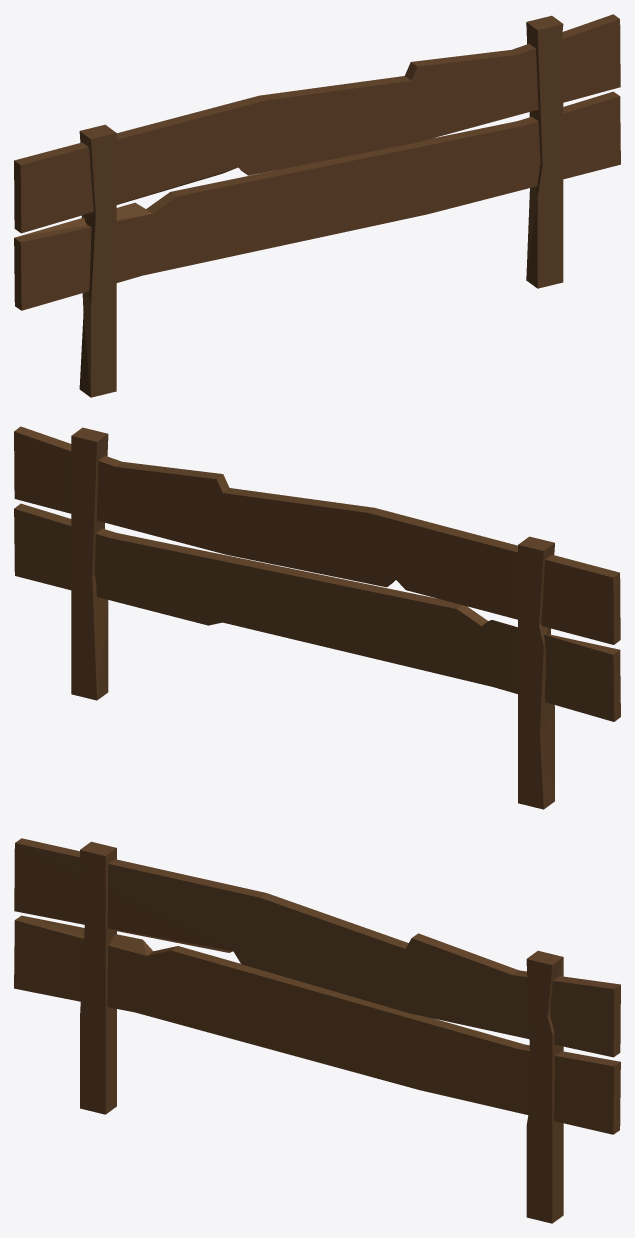
The model's file is Fence.glb.
3 renders of one model, top to bottom at view 1: azimuth 30°, elevation 25°; view 2: azimuth 150°, elevation 25°; view 3: azimuth 330°, elevation 25°, orthographic.
Parts seen in each view (by area): view 1: Fence; view 2: Fence; view 3: Fence.
Boxes of the visible parts, x1,y1,x2,y2 form: Fence: (14, 14, 620, 397); Fence: (14, 426, 620, 809); Fence: (14, 838, 620, 1223).
Size of the model in its own units: 0.791 by 0.326 by 0.0259.
